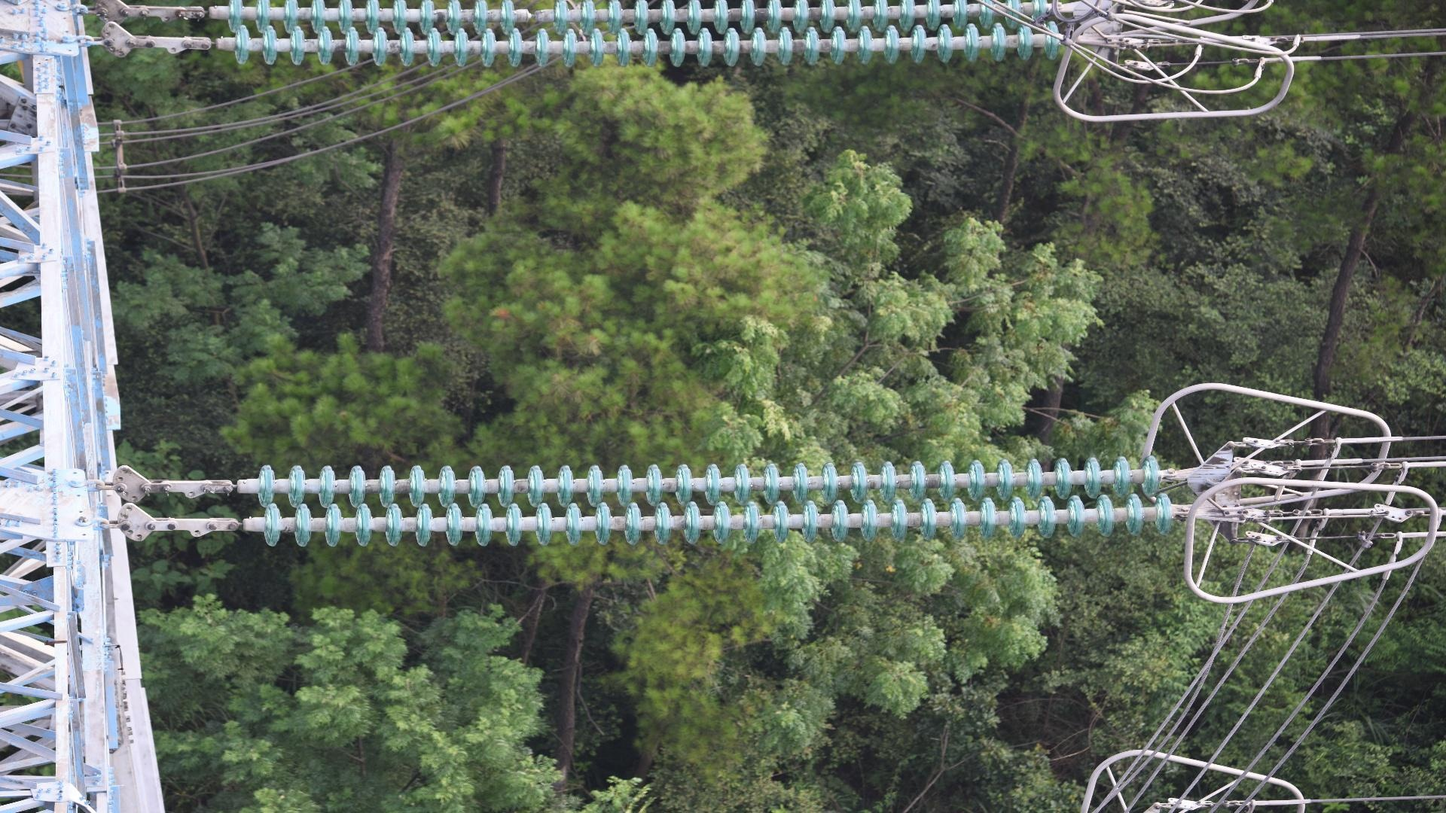insulator: (255, 450, 1178, 555), (220, 1, 1064, 72)
